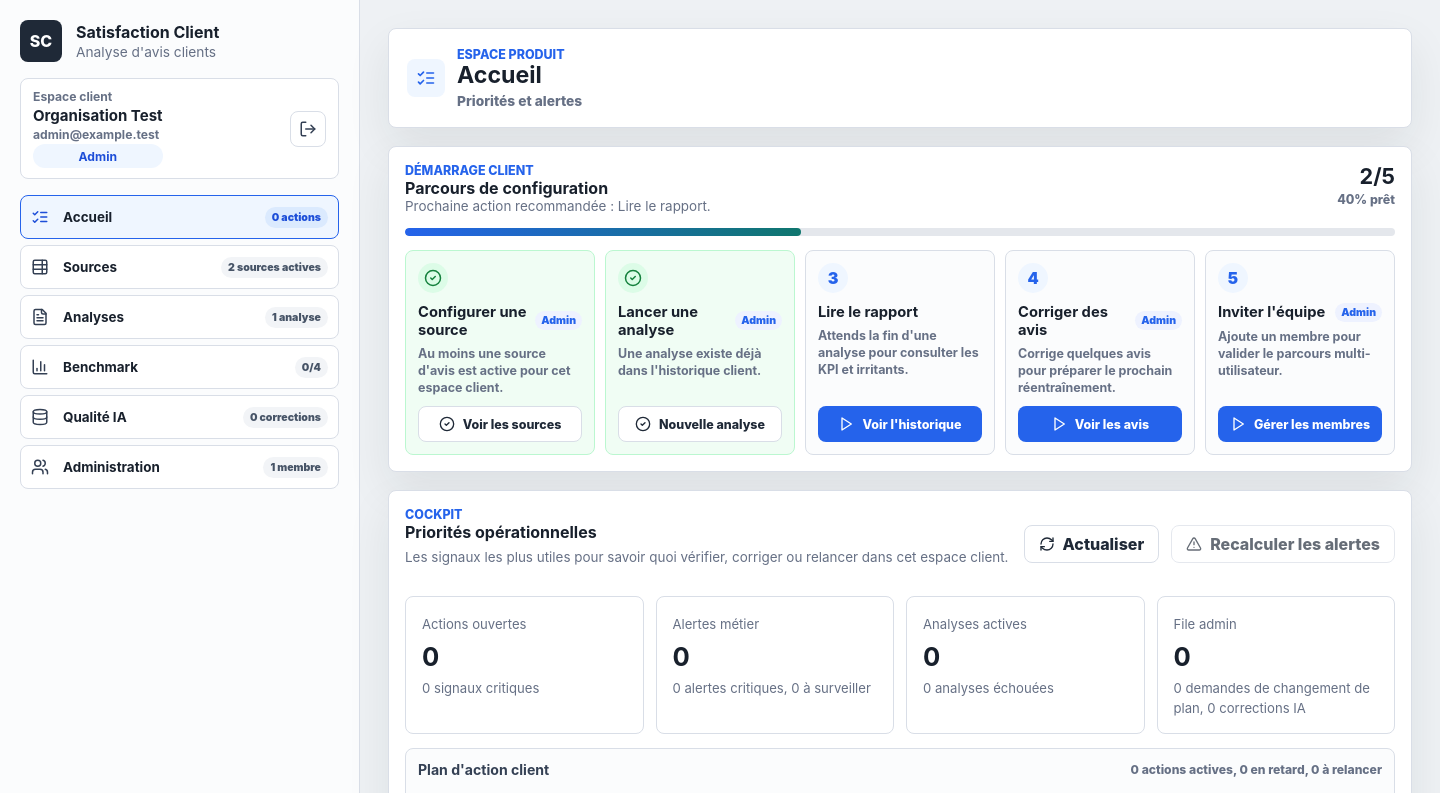
App authentication and permissions › clarifies an empty CSV import with CSV-specific guidance
expect the text "admin@example.test" is shown: met, box top-left (33, 127), bottom-right (163, 142)
Click the button "Analyses 1 analyse". click: (94,317)
box: top-left (20, 295), bottom-right (339, 339)
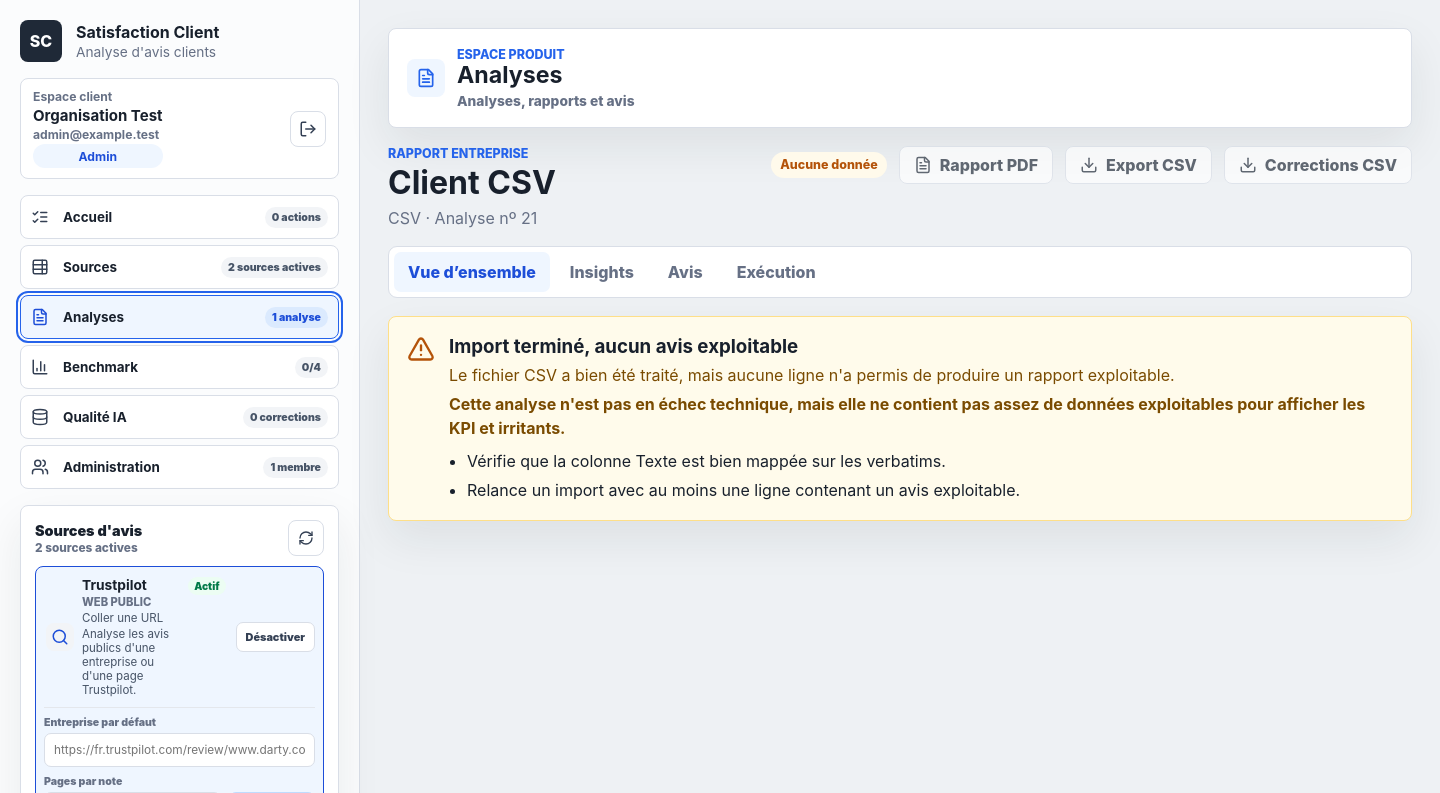
expect the heading "Import terminé, aucun avis exploitable" is shown: met, box top-left (449, 335), bottom-right (798, 358)
expect the text "Le fichier CSV a bien été traité, mais aucune ligne n'a permis de produire un rapport exploitable." is shown: met, box top-left (449, 365), bottom-right (1175, 385)
expect the list item "Vérifie que la colonne Texte est bien mappée sur les verbatims." is shown: met, box top-left (467, 451), bottom-right (946, 471)
